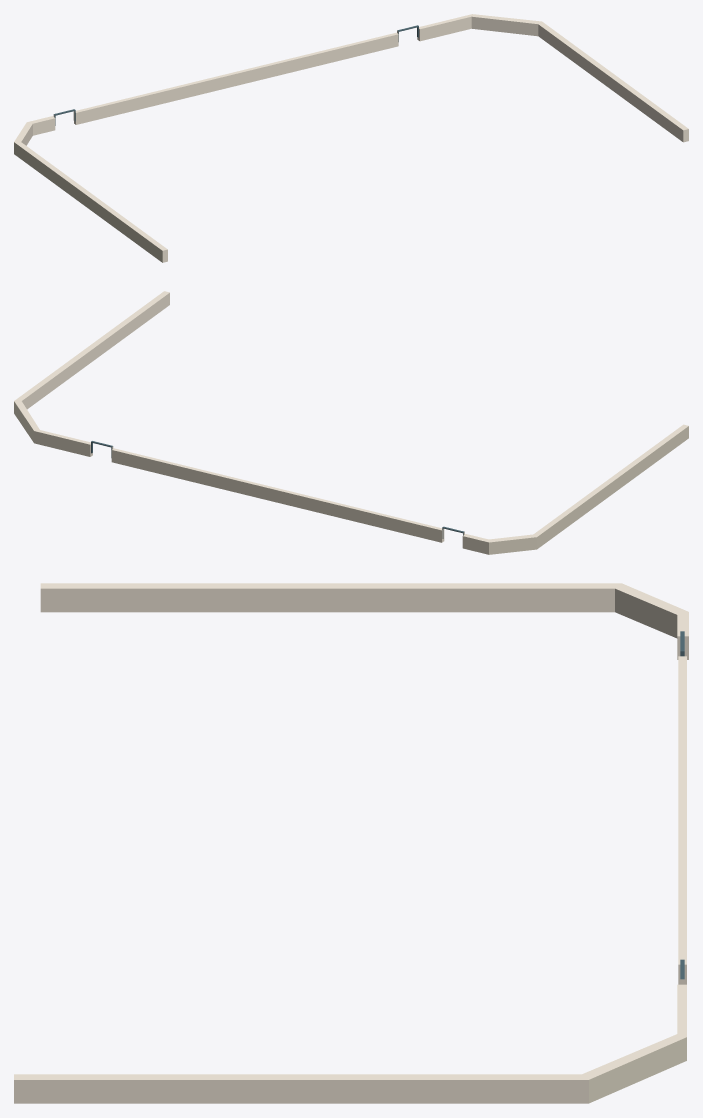
Rendered from Fence.fbx.
3 renders of one model, top to bottom at view 1: azimuth 30°, elevation 25°; view 2: azimuth 150°, elevation 25°; view 3: azimuth 270°, elevation 25°, orthographic. The views are drawn at different scales.
Visible parts, largest first — view 1: Fence; view 2: Fence; view 3: Fence.
Boxes of the visible parts, x1,y1,x2,y2 form: Fence: (14, 14, 688, 262); Fence: (14, 291, 688, 554); Fence: (14, 583, 688, 1103).
Bounding box in the file's own units: 1909 × 51.66 × 1097.
